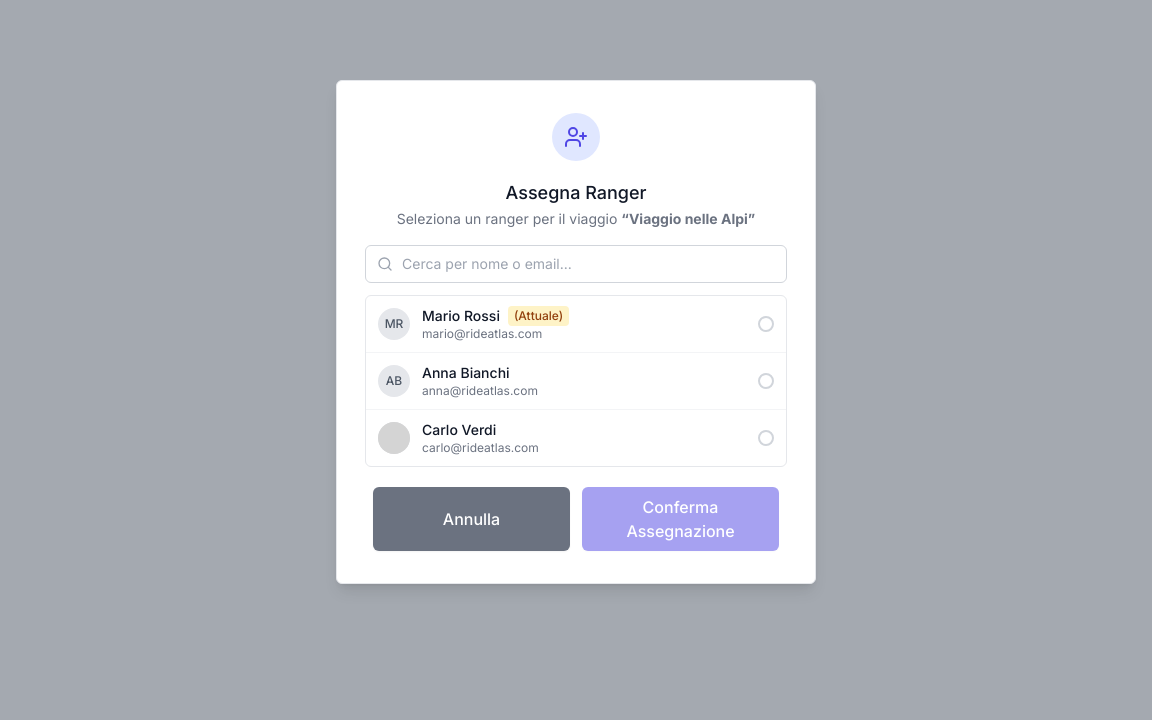
Scenario: AssegnaRangerDialog - Componente dialogo assegnazione ranger › Funzionalità di ricerca › Filtra i rangers tramite campo di ricerca
Expected: the text "Mario Rossi" is shown, [422,306,500,326]
Type "Anna" into the field with placeholder "Cerca per nome o email..." at point(576, 264), box [365,245,787,283]
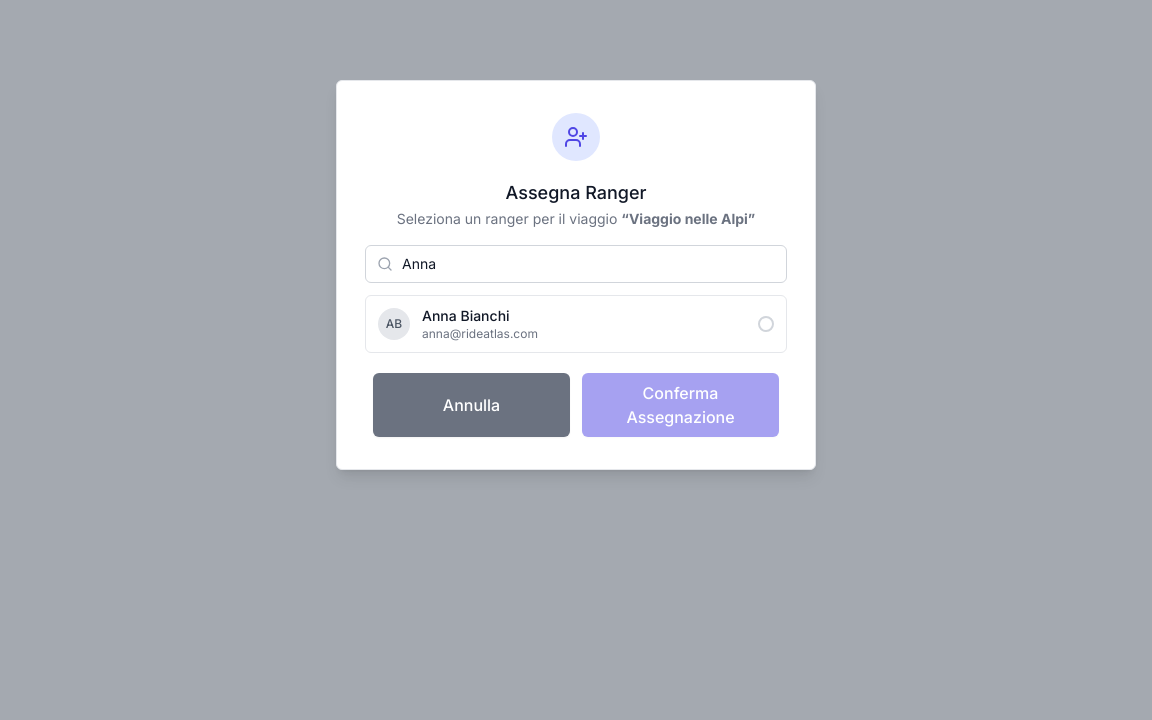
Expected: the text "Anna Bianchi" is shown, [422,306,510,326]
Expected: the button "Mario Rossi" is gone
Expected: the button "Carlo Verdi" is gone
